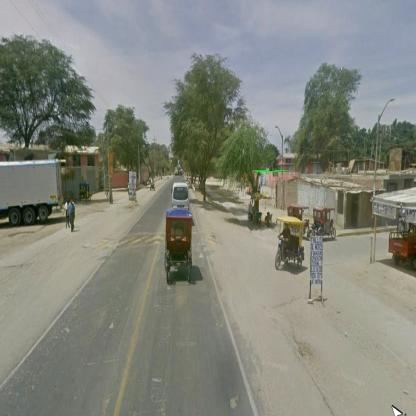Peaton: (69, 199, 76, 232)
Pista: (6, 174, 249, 378)
Vehiculo: (166, 206, 192, 283), (276, 216, 305, 273), (310, 208, 336, 241)
